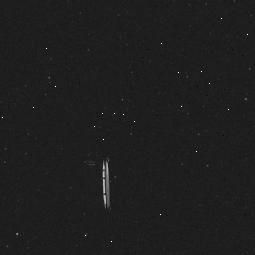lisa_pathfinder: (58, 134, 135, 221)
